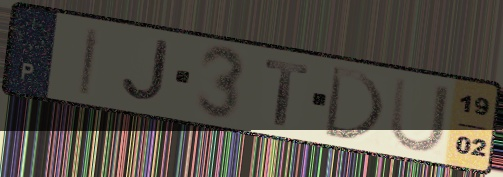3: (193, 41, 248, 126)
D: (320, 63, 388, 144)
I: (76, 24, 104, 98)
J: (118, 37, 171, 106)
T: (263, 57, 312, 130)
U: (387, 73, 453, 155)
